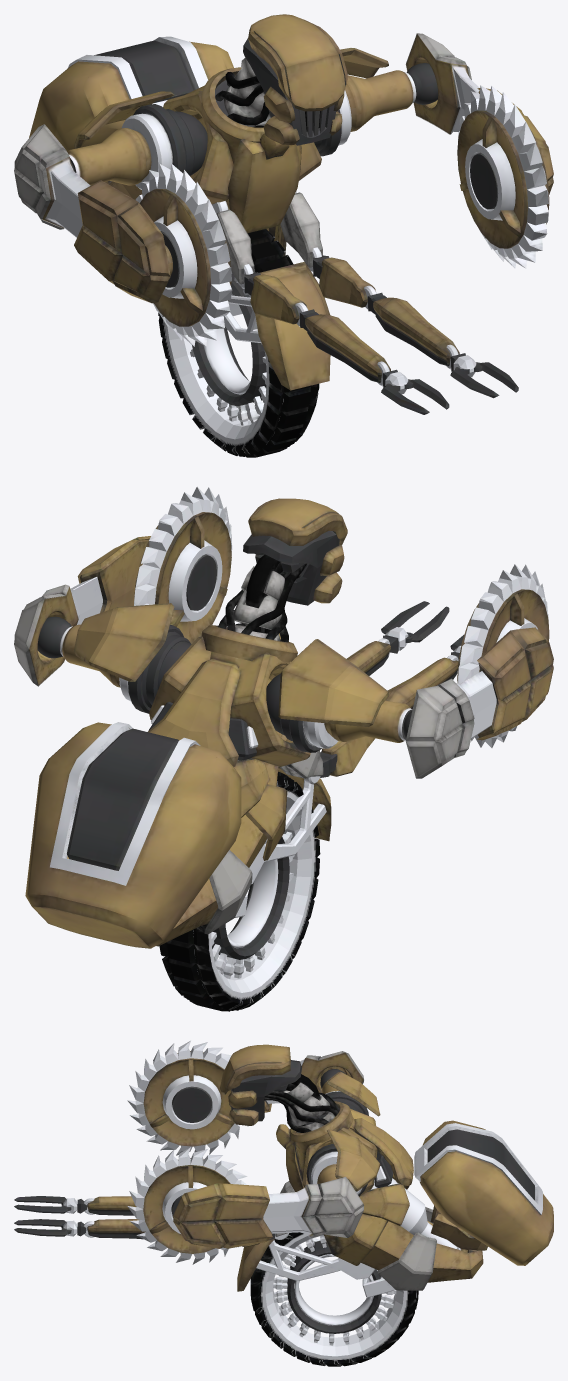
The model's file is scrapper.glb.
The picture shows the model from 3 angles, top to bottom: view 1: azimuth 30°, elevation 25°; view 2: azimuth 150°, elevation 25°; view 3: azimuth 270°, elevation 25°; orthographic projection. The views are drawn at different scales.
Visible parts, largest first — view 1: Scrapper; view 2: Scrapper; view 3: Scrapper.
Part boxes in pixels (x1,y1,x2,y2): Scrapper: (14, 14, 553, 457); Scrapper: (14, 487, 553, 1011); Scrapper: (14, 1040, 553, 1366).
Size of the model in its own units: 0.9459 by 0.9625 by 1.5.
Materials: 1 (1 with a texture image).
